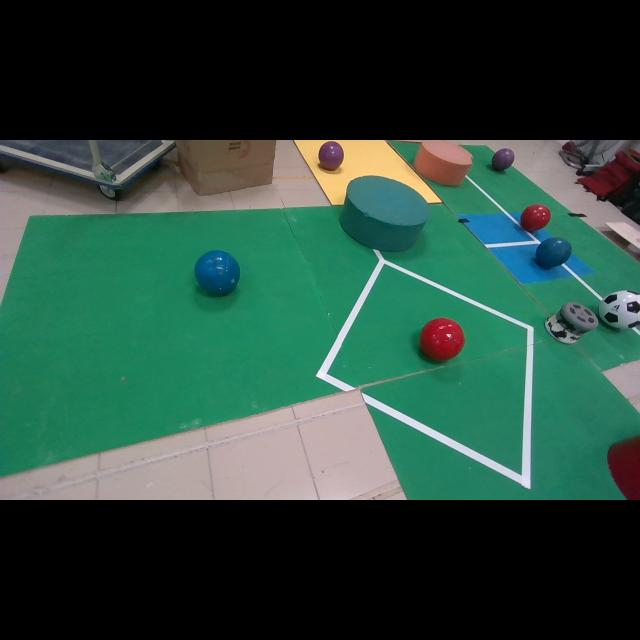B: (195, 250, 240, 294), (536, 238, 571, 268)
P: (319, 141, 344, 170), (491, 149, 515, 171)
R: (420, 318, 465, 361), (520, 204, 551, 232)
